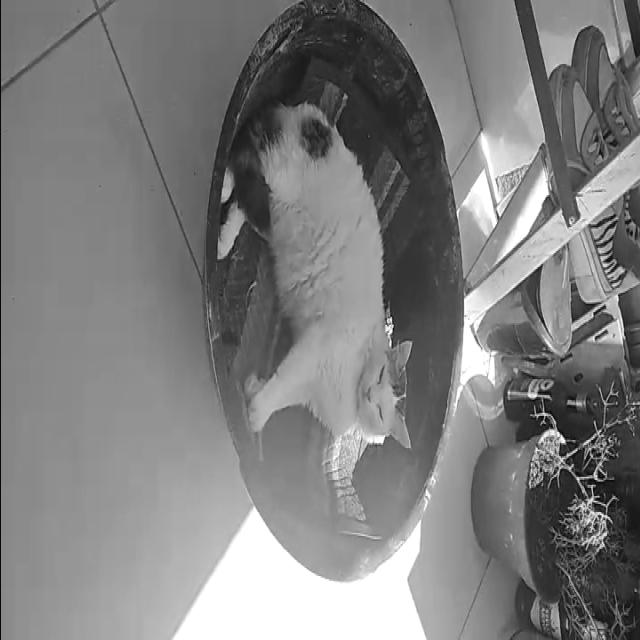Simba: (246, 82, 412, 500)
